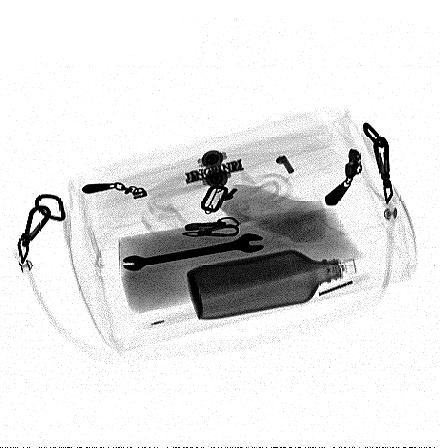Wrench: (121, 232, 265, 272)
